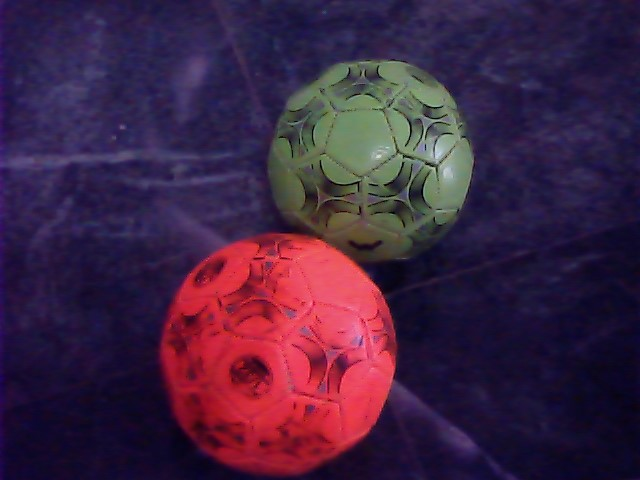Green_ball: (263, 44, 476, 265)
Orange_ball: (153, 225, 403, 472)
